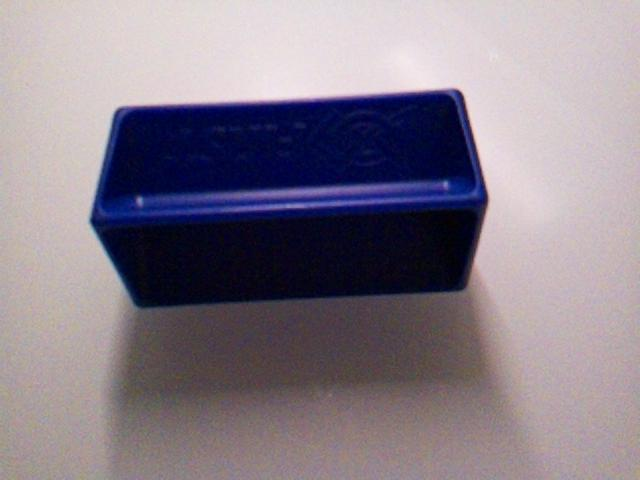blue: (89, 87, 490, 309)
